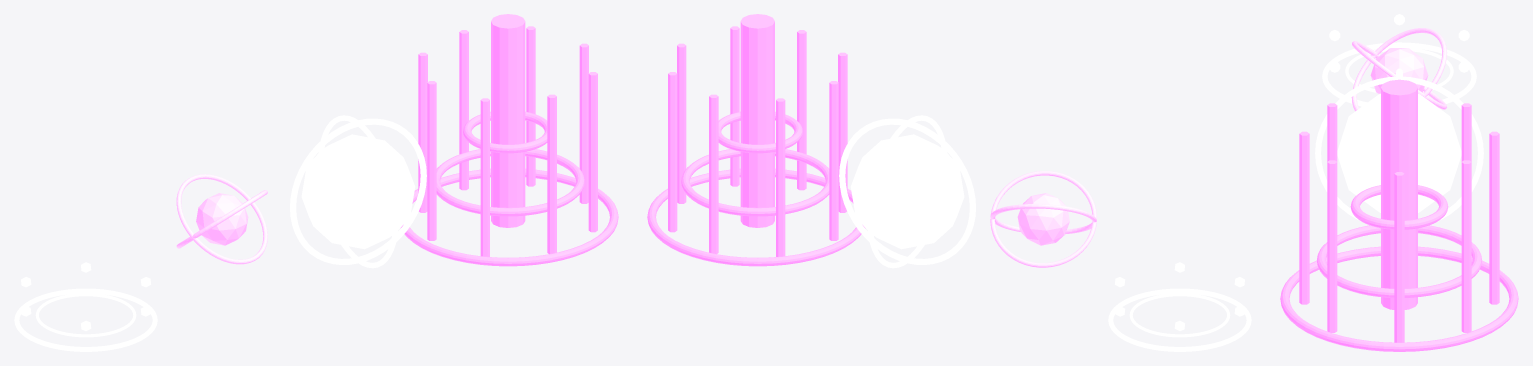
File: trisha_skills_vfx.glb
3 renders of one model, left to right at view 1: azimuth 30°, elevation 25°; view 2: azimuth 150°, elevation 25°; view 3: azimuth 270°, elevation 25°, orthographic. The views are drawn at different scales.
Visible parts, largest first — view 1: VFX_Ultimate, VFX_Skill_2, VFX_Skill_1, VFX_Passive; view 2: VFX_Ultimate, VFX_Skill_2, VFX_Skill_1, VFX_Passive; view 3: VFX_Ultimate, VFX_Skill_2, VFX_Skill_1, VFX_Passive.
Boxes of the visible parts, box(x1,y1,x2,y2) form: VFX_Ultimate: box(400, 14, 618, 266); VFX_Skill_2: box(290, 115, 426, 268); VFX_Skill_1: box(176, 174, 267, 264); VFX_Passive: box(14, 262, 157, 351); VFX_Ultimate: box(647, 14, 865, 266); VFX_Skill_2: box(839, 115, 975, 268); VFX_Skill_1: box(990, 171, 1096, 267); VFX_Passive: box(1108, 262, 1251, 351); VFX_Ultimate: box(1280, 79, 1518, 351); VFX_Skill_2: box(1315, 68, 1483, 220); VFX_Skill_1: box(1351, 28, 1447, 111); VFX_Passive: box(1322, 14, 1476, 106).
Size of the model in its own units: 8.55 by 2.88 by 2.81.
